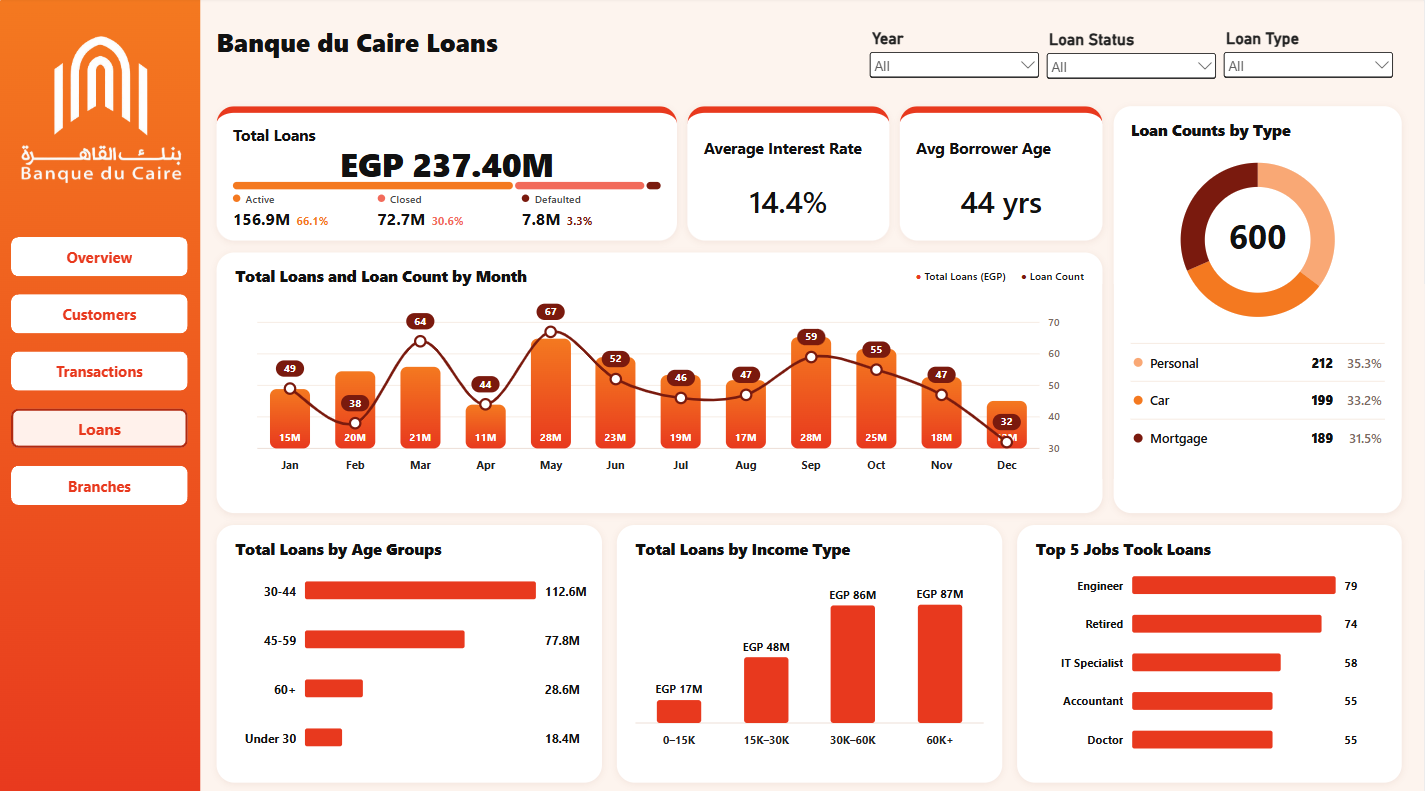

Layout of this report page (visuals, bound fields, positions):
{"tool":"powerbi","page":{"name":"Loans","canvas":[1920,1080],"ordinal":4},"visuals":[{"type":"htmlContent443BE3AD55E043BF878BED274D3A6855","fields":{"content":["Html.HTML Banque Loans 2"]},"box":[0,0,1920,1080],"z":0},{"type":"image","box":[38.4,0,195,240.5],"z":1000},{"type":"image","box":[0,162.5,255,131.2],"z":2000},{"type":"slicer","fields":{"Values":["Date Dim.Year"]},"box":[1167.2,42.6,238.3,76.7],"z":3000},{"type":"slicer","fields":{"Values":["Loans Fact.Loan_Status"]},"box":[1406.6,44.3,238.3,76.7],"z":4000},{"type":"slicer","fields":{"Values":["Loans Fact.Loan_Type"]},"box":[1644.3,42.6,238.3,76.7],"z":5000},{"type":"pageNavigator","box":[16.7,323.3,238.9,361.1],"z":6000}]}

Visuals, with their boxes in screenshot pixels (x1, y1, x2, y2), scaled from the page's 1920x1080 canvas onto the 1425x791 screenshot:
htmlContent443BE3AD55E043BF878BED274D3A6855 - Html.HTML Banque Loans 2: bbox=(0, 0, 1424, 790)
image: bbox=(28, 0, 173, 176)
image: bbox=(0, 119, 189, 215)
slicer - Date Dim.Year: bbox=(866, 31, 1043, 87)
slicer - Loans Fact.Loan_Status: bbox=(1044, 32, 1221, 89)
slicer - Loans Fact.Loan_Type: bbox=(1220, 31, 1397, 87)
pageNavigator: bbox=(12, 237, 190, 501)
